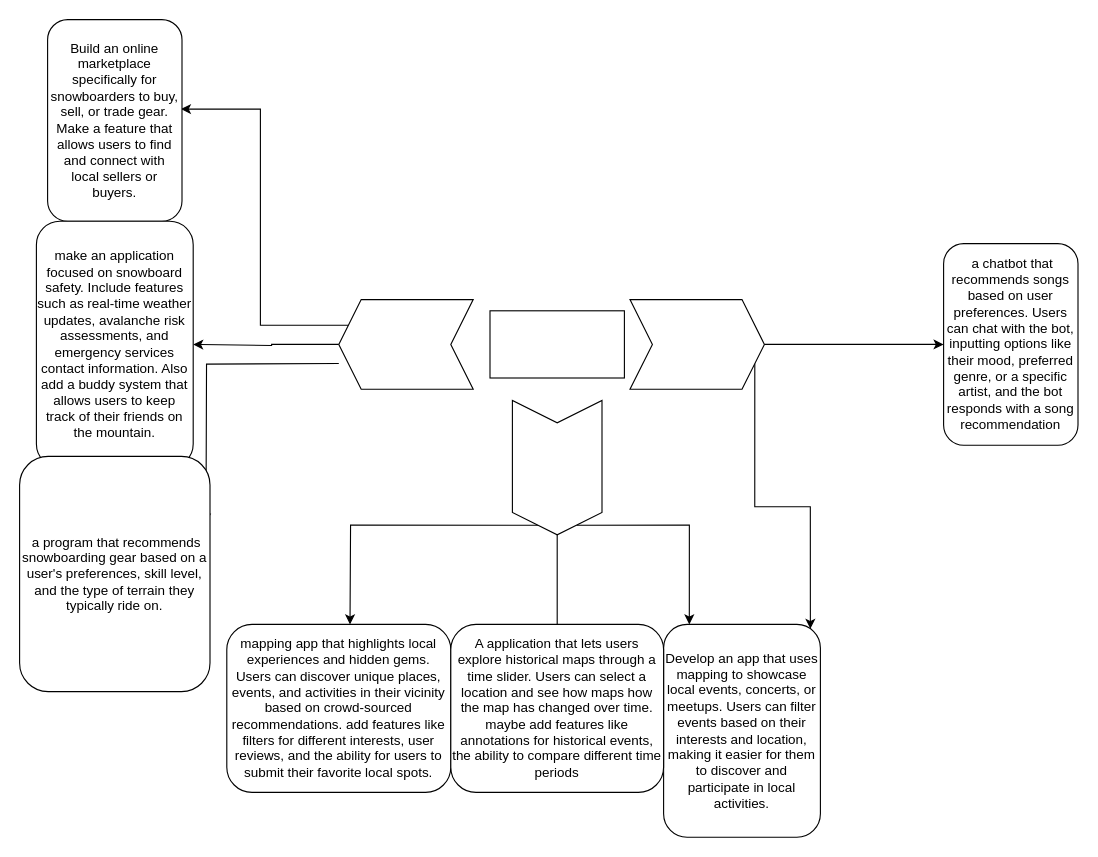
This 1098x857 diagram has some shape labels left out. Here are the shapes that lost their labels. From the top down, the centre of each, then its label:
At point (405, 343): "SNOW BOARDING".
At point (556, 344): "Gabe".
At point (696, 343): "MUSIC".
At point (556, 467): "MAPPING".
